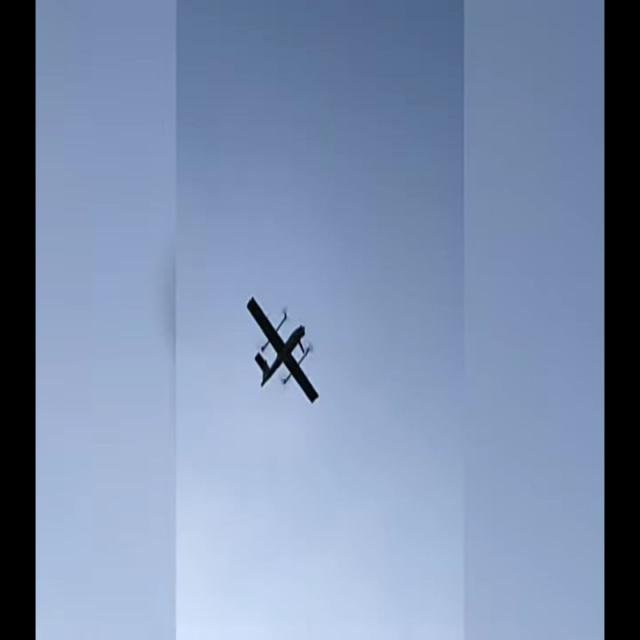iha: (281, 325, 285, 375)
